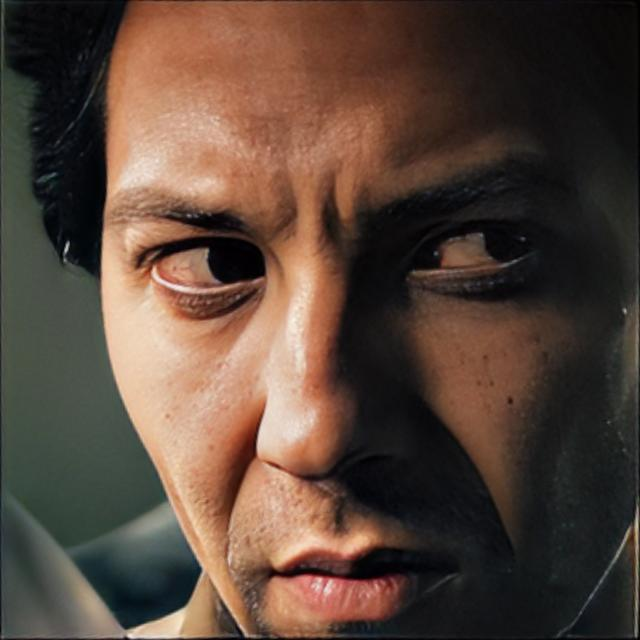anger: (93, 34, 630, 628)
